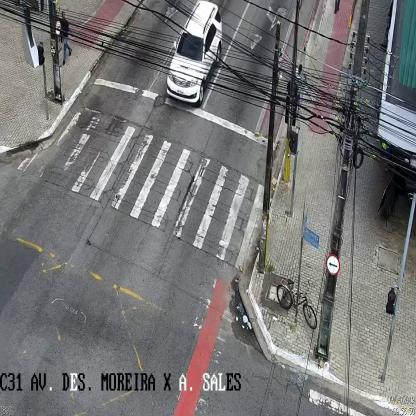bicycle: (276, 278, 316, 331)
car: (165, 2, 223, 104)
person: (61, 10, 74, 65)
